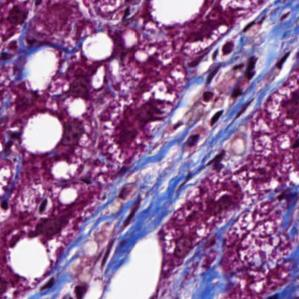inflammation: (104, 94, 174, 153), (205, 34, 241, 67)
